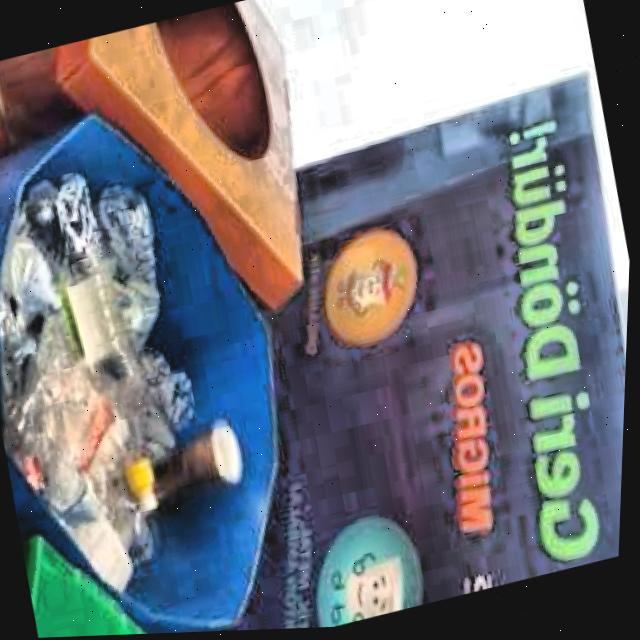metal: (155, 422, 244, 509)
